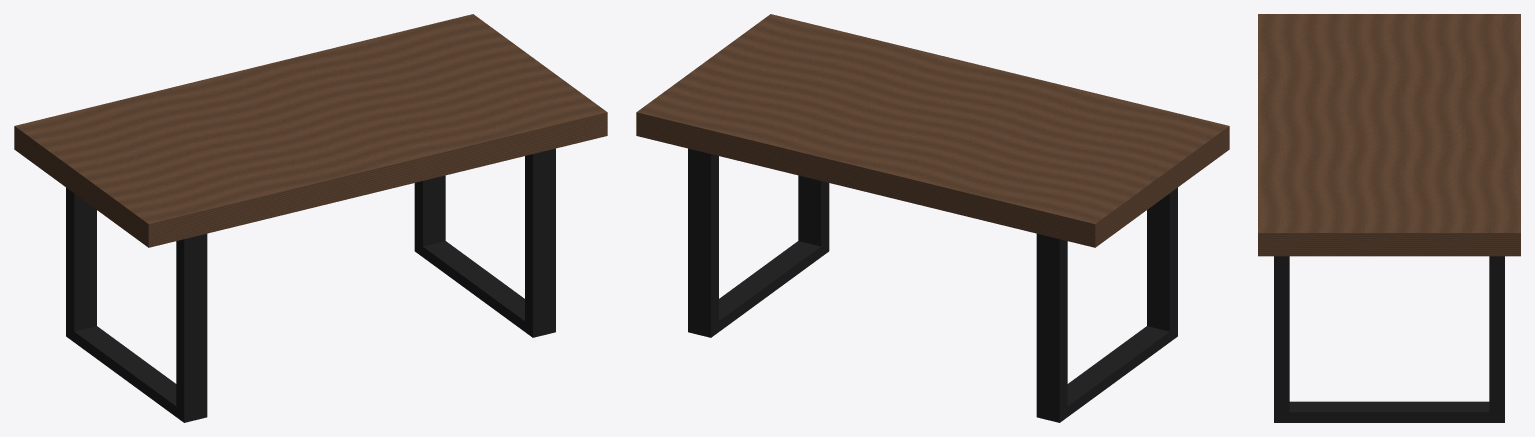
3 renders of one model, left to right at view 1: azimuth 30°, elevation 25°; view 2: azimuth 150°, elevation 25°; view 3: azimuth 270°, elevation 25°, orthographic. The views are drawn at different scales.
Parts seen in each view (by area): view 1: 1 tabletop, 4 left leg back post, 7 right leg back post, 3 left leg front post, 2 left leg bottom bar, 5 right leg bottom bar, 6 right leg front post; view 2: 1 tabletop, 3 left leg front post, 6 right leg front post, 4 left leg back post, 2 left leg bottom bar, 5 right leg bottom bar, 7 right leg back post; view 3: 1 tabletop, 5 right leg bottom bar, 6 right leg front post, 7 right leg back post.
Boxes of the visible parts, x1,y1,x2,y2 form: 1 tabletop: (14,14,607,247); 4 left leg back post: (176,233,207,412); 7 right leg back post: (525,148,555,326); 3 left leg front post: (66,187,96,331); 2 left leg bottom bar: (66,326,207,422); 5 right leg bottom bar: (414,241,555,337); 6 right leg front post: (414,175,445,246); 1 tabletop: (636,14,1229,247); 3 left leg front post: (1036,233,1067,412); 6 right leg front post: (688,148,718,326); 4 left leg back post: (1147,187,1177,331); 2 left leg bottom bar: (1036,326,1177,422); 5 right leg bottom bar: (688,241,829,337); 7 right leg back post: (798,175,829,246); 1 tabletop: (1258,14,1520,256); 5 right leg bottom bar: (1274,401,1504,422); 6 right leg front post: (1489,256,1504,412); 7 right leg back post: (1274,256,1289,412).
Bounding box in the file's own units: 2.23 × 1 × 1.13.
2 materials, 1 textured.
